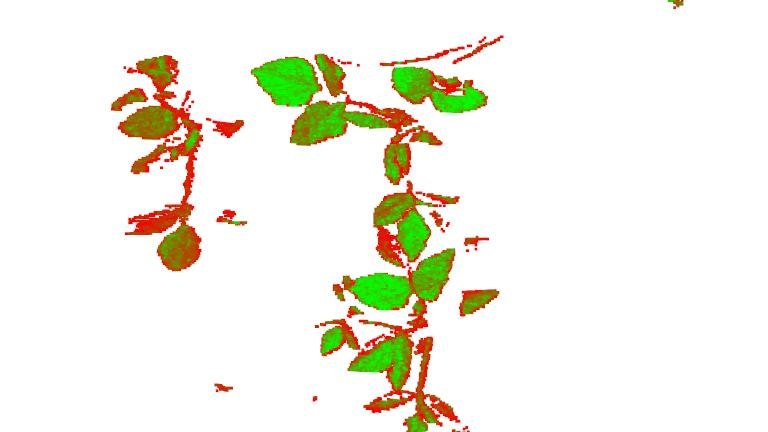mungbean: (255, 38, 488, 262), (318, 224, 499, 431), (105, 46, 243, 274)
